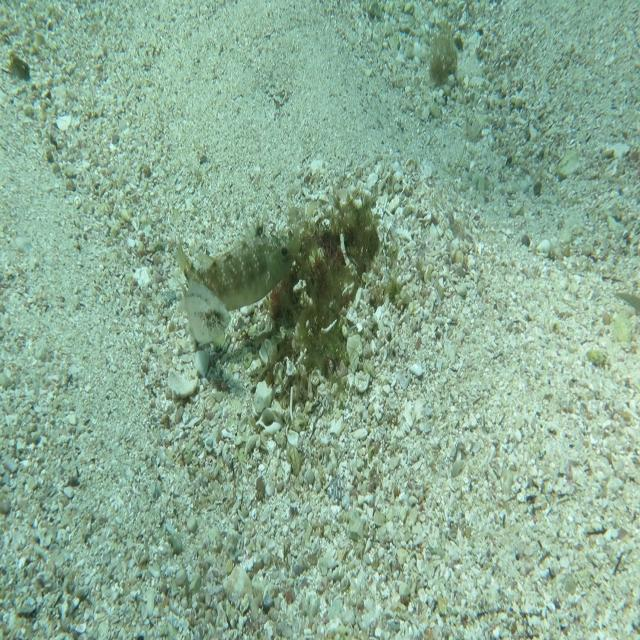FAN: (174, 212, 302, 311)
core_nest: (317, 223, 372, 264)
female: (180, 277, 232, 350)
nest: (260, 178, 400, 416)
